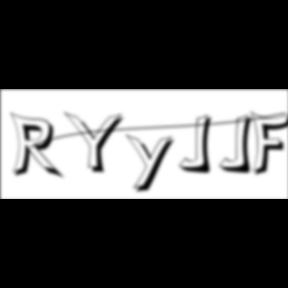J: (180, 114, 218, 176), (220, 114, 258, 176)
R: (10, 112, 68, 182)
Y: (64, 110, 130, 176)
y: (126, 132, 180, 196)
